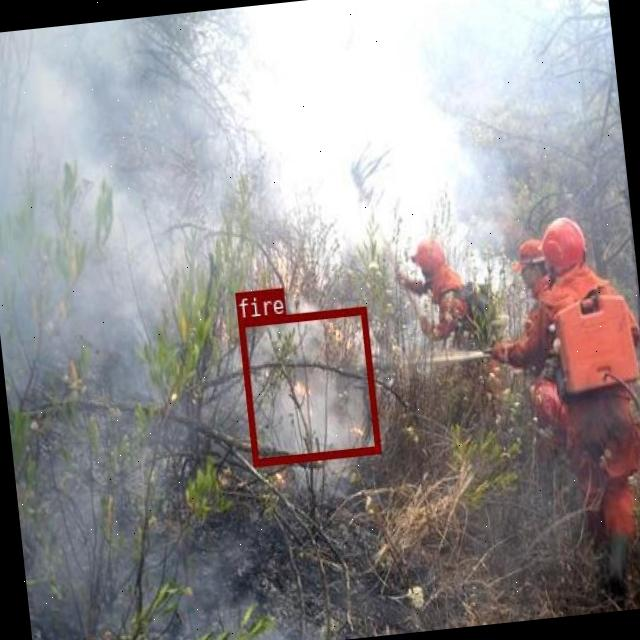fire: (236, 305, 380, 464)
